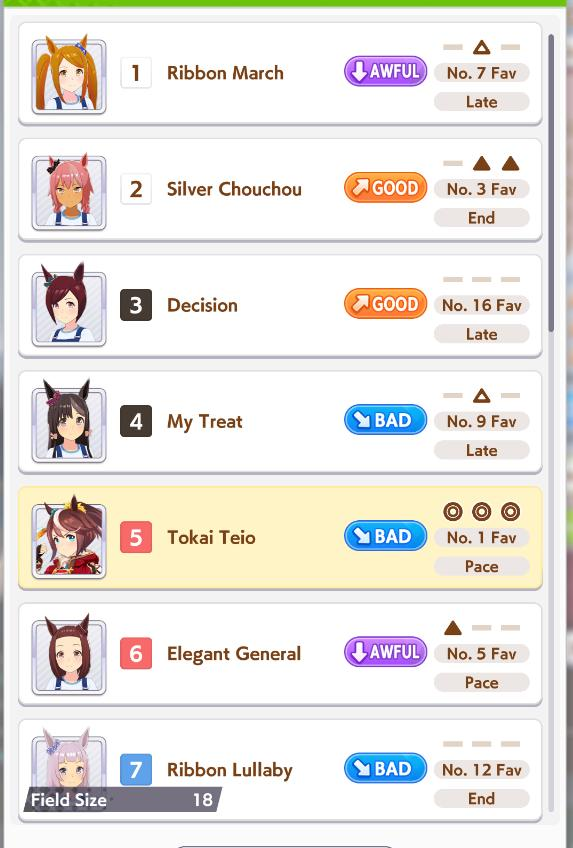awful: (338, 49, 429, 95), (343, 629, 433, 668)
bad: (340, 749, 426, 789), (341, 403, 429, 438)
good: (342, 167, 429, 204), (341, 285, 425, 323)
